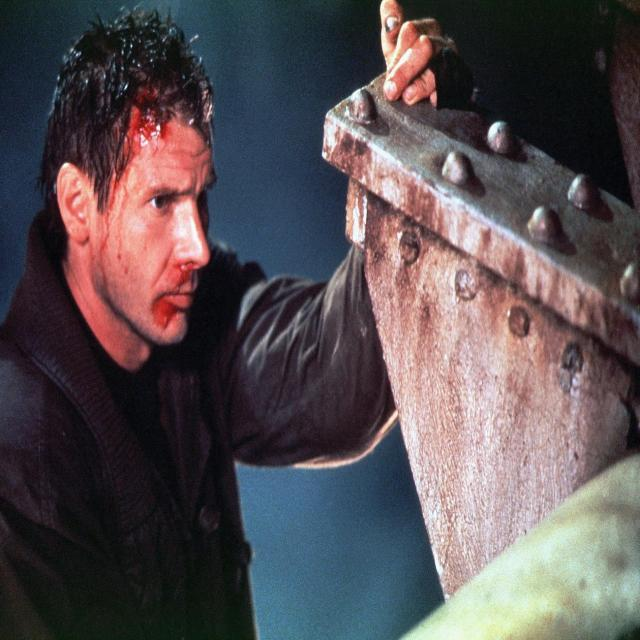no-earmuff: (46, 148, 110, 256)
